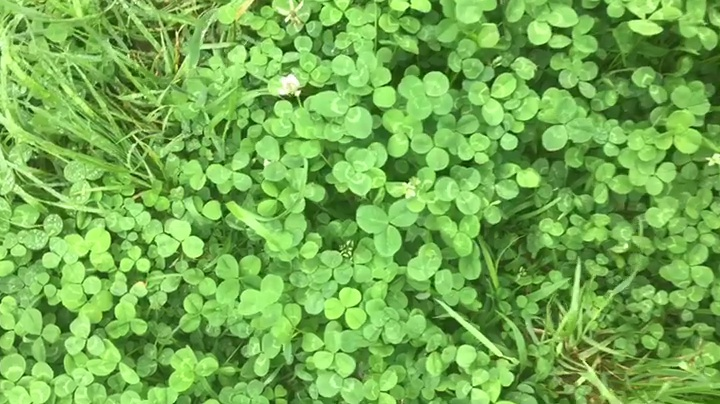4-clover: (398, 69, 454, 123)
